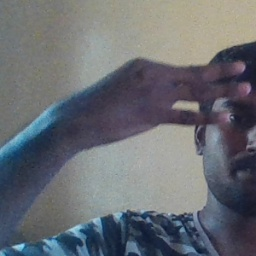K: (77, 57, 251, 138)
